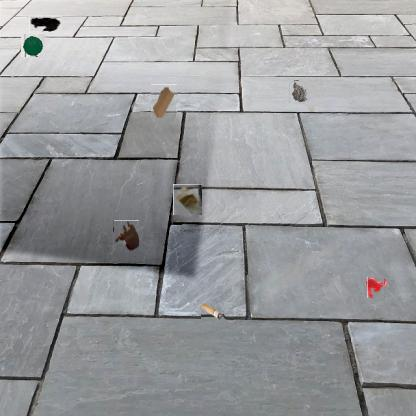dirty: (152, 84, 178, 119), (173, 184, 202, 215), (29, 15, 62, 33), (21, 33, 45, 57), (202, 304, 226, 324), (289, 80, 309, 102)
liquid: (113, 220, 139, 251), (366, 278, 386, 297)
